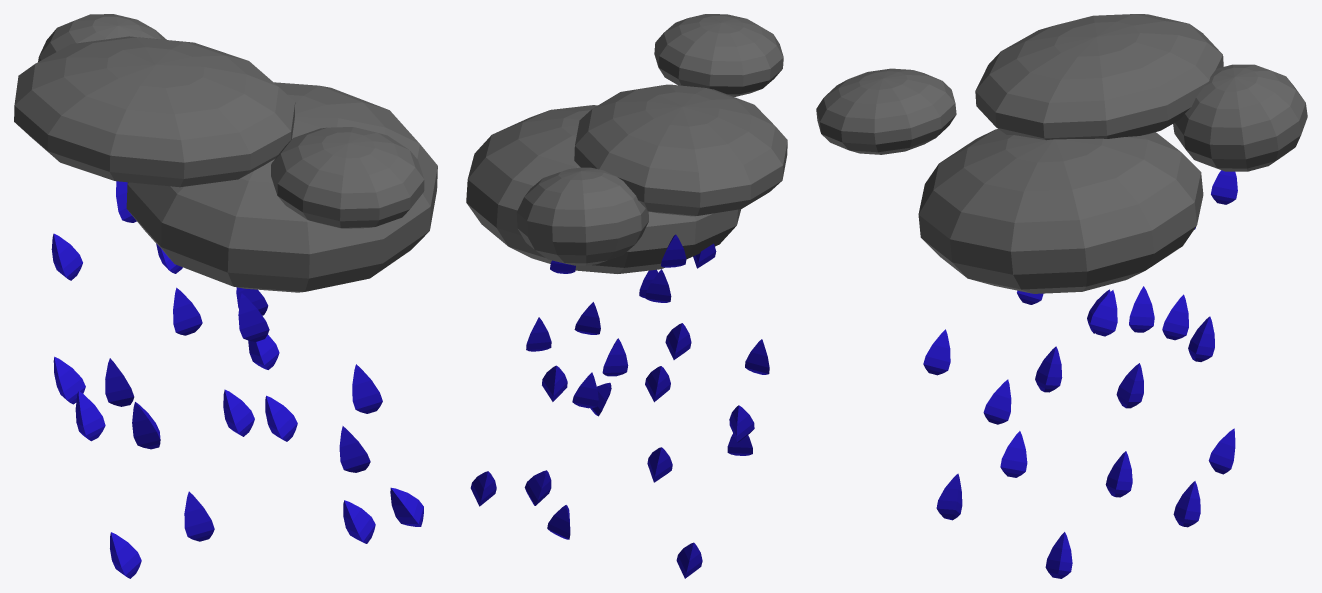
Rendered from Clouds.fbx.
The picture shows the model from 3 angles, left to right: view 1: azimuth 30°, elevation 25°; view 2: azimuth 150°, elevation 25°; view 3: azimuth 270°, elevation 25°; orthographic projection. The views are drawn at different scales.
Visible parts, largest first — view 1: Clouds, Raindrops; view 2: Clouds, Raindrops; view 3: Clouds, Raindrops.
Part boxes in pixels (box(x1,y1,x2,y2)): Clouds: box(14, 14, 437, 292); Raindrops: box(51, 181, 423, 578); Clouds: box(466, 14, 787, 273); Raindrops: box(470, 234, 769, 578); Clouds: box(816, 14, 1307, 293); Raindrops: box(923, 170, 1237, 578).
Size of the model in its own units: 74.88 by 105 by 100.
